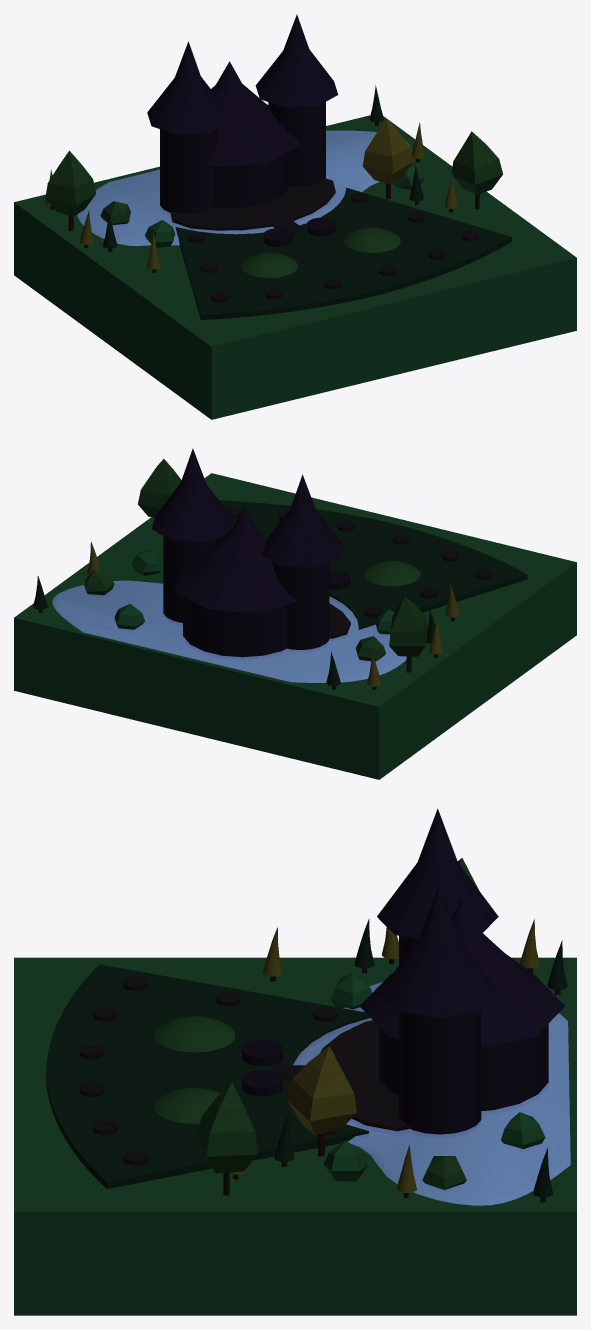
File: map 1.FBX
3 views of the same model, one above another, from view 1: azimuth 30°, elevation 25°; view 2: azimuth 150°, elevation 25°; view 3: azimuth 270°, elevation 25° (orthographic). The views are drawn at different scales.
Visible parts, largest first — view 1: Box017, Box010, Box011, Line001, Cone023, Cylinder031, Box013, Cone021, Cone022, Cylinder023, Cylinder032, Cone034 (+6 smaller); view 2: Box017, Line001, Box010, Cone023, Cylinder023, Cone021, Cone022, Cylinder031, Box011, Cylinder032, Cone033, Cone035 (+6 smaller); view 3: Box017, Box010, Box011, Line001, Cylinder032, Cone021, Cone023, Cone022, Cylinder023, Box013, Cone034, Cone035 (+11 smaller).
Boxes of the visible parts, x1,y1,x2,y2 form: Box017: [14, 115, 576, 419]; Box010: [175, 227, 376, 319]; Box011: [293, 187, 511, 295]; Line001: [77, 130, 411, 245]; Cone023: [205, 61, 299, 166]; Cylinder031: [160, 128, 217, 215]; Box013: [170, 178, 335, 233]; Cone021: [255, 14, 338, 107]; Cone022: [147, 41, 229, 134]; Cylinder023: [214, 151, 289, 208]; Cylinder032: [268, 102, 325, 186]; Cone034: [362, 118, 413, 184]; Box017: [14, 473, 576, 779]; Line001: [52, 580, 406, 682]; Box010: [329, 522, 527, 632]; Cone023: [174, 507, 297, 612]; Cylinder023: [183, 596, 286, 659]; Cone021: [151, 448, 234, 541]; Cone022: [261, 474, 343, 567]; Cylinder031: [272, 561, 329, 652]; Box011: [219, 500, 388, 569]; Cylinder032: [163, 535, 221, 625]; Cone033: [389, 596, 427, 656]; Cone035: [138, 459, 181, 517]; Box017: [14, 957, 576, 1315]; Box010: [46, 964, 371, 1073]; Box011: [46, 1070, 368, 1188]; Line001: [293, 982, 570, 1205]; Cylinder032: [399, 1011, 481, 1138]; Cone021: [378, 884, 500, 1018]; Cone023: [359, 898, 565, 1046]; Cone022: [377, 808, 498, 938]; Cylinder023: [379, 1024, 548, 1114]; Box013: [320, 1020, 410, 1135]; Cone034: [287, 1046, 356, 1134]; Cone035: [197, 1081, 257, 1173].
Size of the model in its own units: 10905 by 6686 by 10009.
